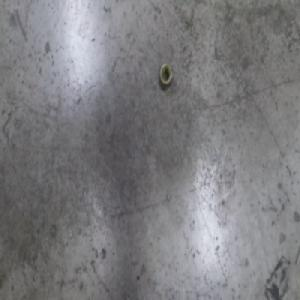Nut: (158, 61, 173, 93)
